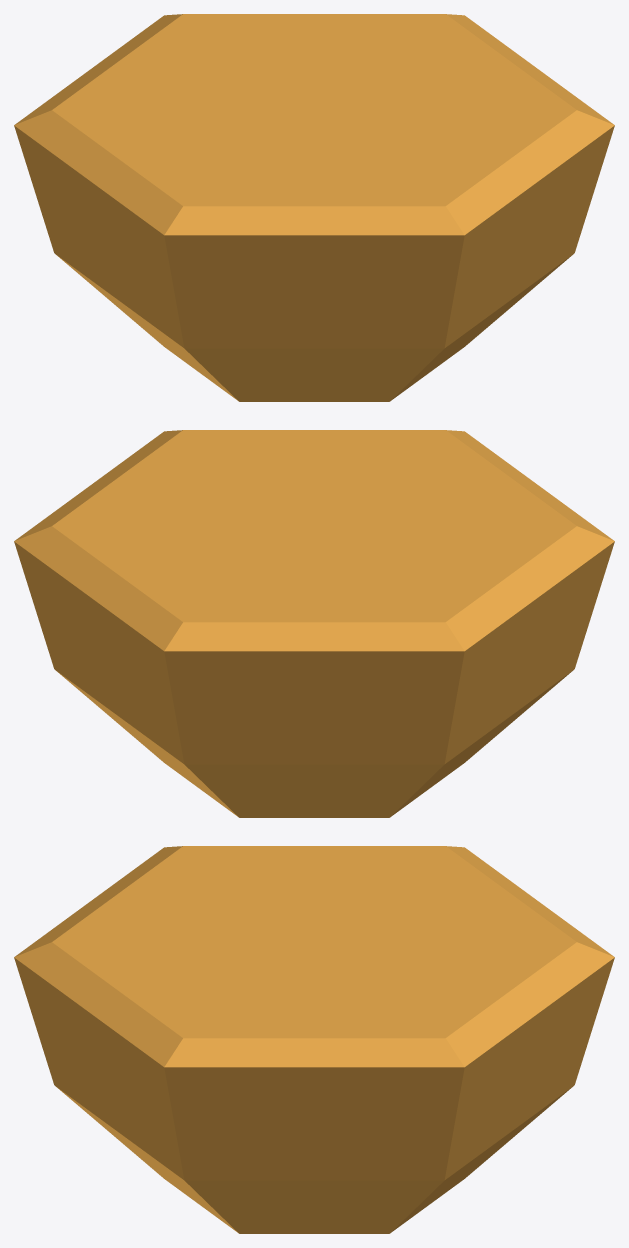
The model's file is food-egg-open.glb.
The picture shows the model from 3 angles, top to bottom: view 1: azimuth 30°, elevation 25°; view 2: azimuth 150°, elevation 25°; view 3: azimuth 270°, elevation 25°; orthographic projection.
Parts seen in each view (by area): view 1: egg-open; view 2: egg-open; view 3: egg-open.
Part boxes in pixels (x1=…): egg-open: x1=14, y1=14, x2=614, y2=401; egg-open: x1=14, y1=430, x2=614, y2=817; egg-open: x1=14, y1=846, x2=614, y2=1233.
Bounding box in the file's own units: 0.1299 × 0.0746 × 0.15.
